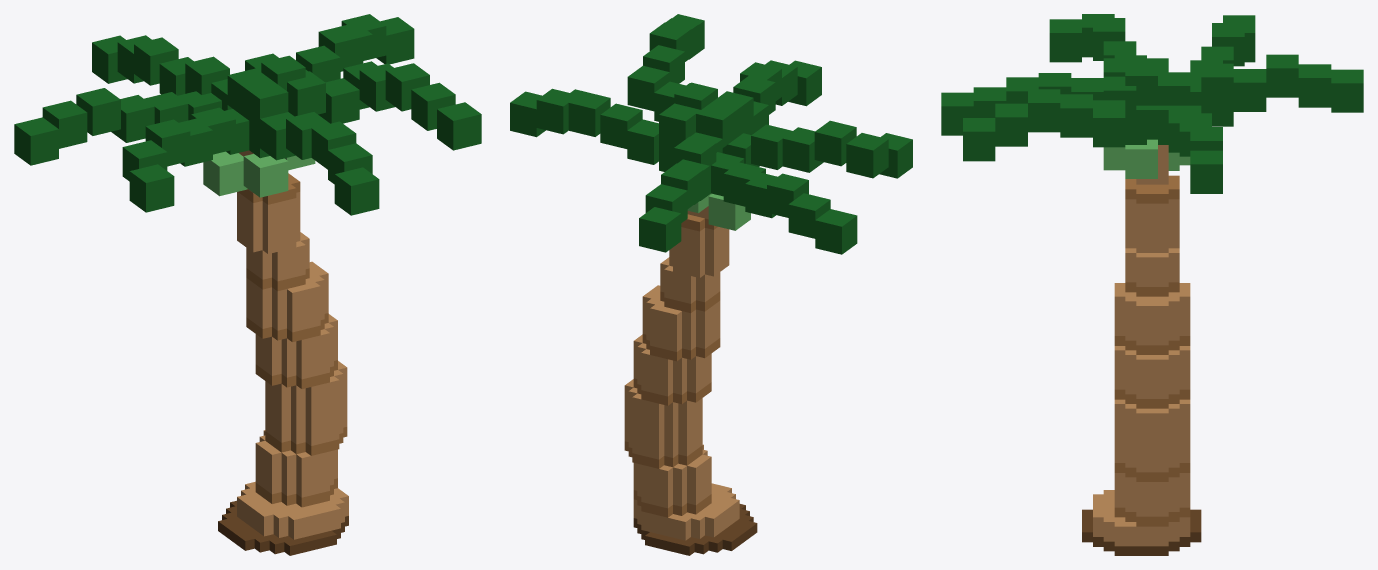
Rendered from 2_0 coco.obj.
3 renders of one model, left to right at view 1: azimuth 30°, elevation 25°; view 2: azimuth 150°, elevation 25°; view 3: azimuth 270°, elevation 25°, orthographic. The views are drawn at different scales.
Size of the model in its own units: 3.9 by 4.8 by 3.9.
Materials: 1 (1 with a texture image).
